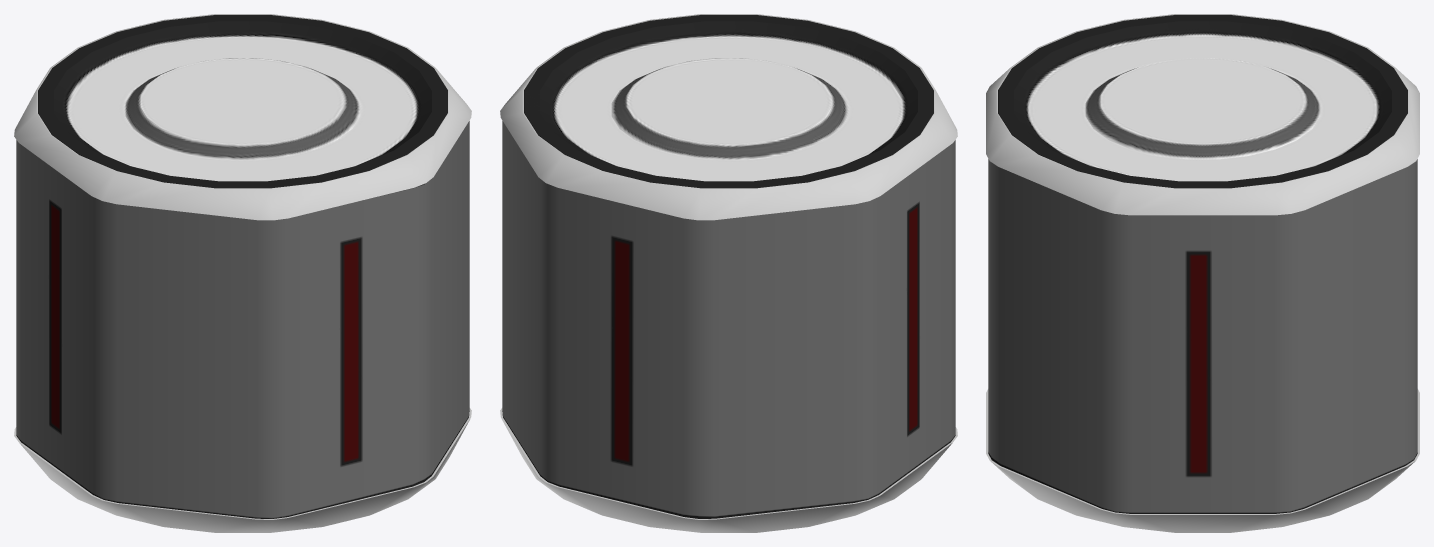
File: converter.fbx
3 views of the same model, side by side, from view 1: azimuth 30°, elevation 25°; view 2: azimuth 150°, elevation 25°; view 3: azimuth 270°, elevation 25° (orthographic).
Parts seen in each view (by area): view 1: converter, stripes; view 2: converter, stripes; view 3: converter, stripes.
Boxes of the visible parts, x1,y1,x2,y2 form: converter: [16, 15, 469, 518]; stripes: [14, 14, 471, 532]; converter: [502, 15, 955, 518]; stripes: [500, 14, 957, 532]; converter: [988, 15, 1417, 513]; stripes: [986, 14, 1419, 532].
Size of what is drawn, in the model's own units: 2.63 by 2.3 by 2.63.
Materials: 2 (1 with a texture image).
